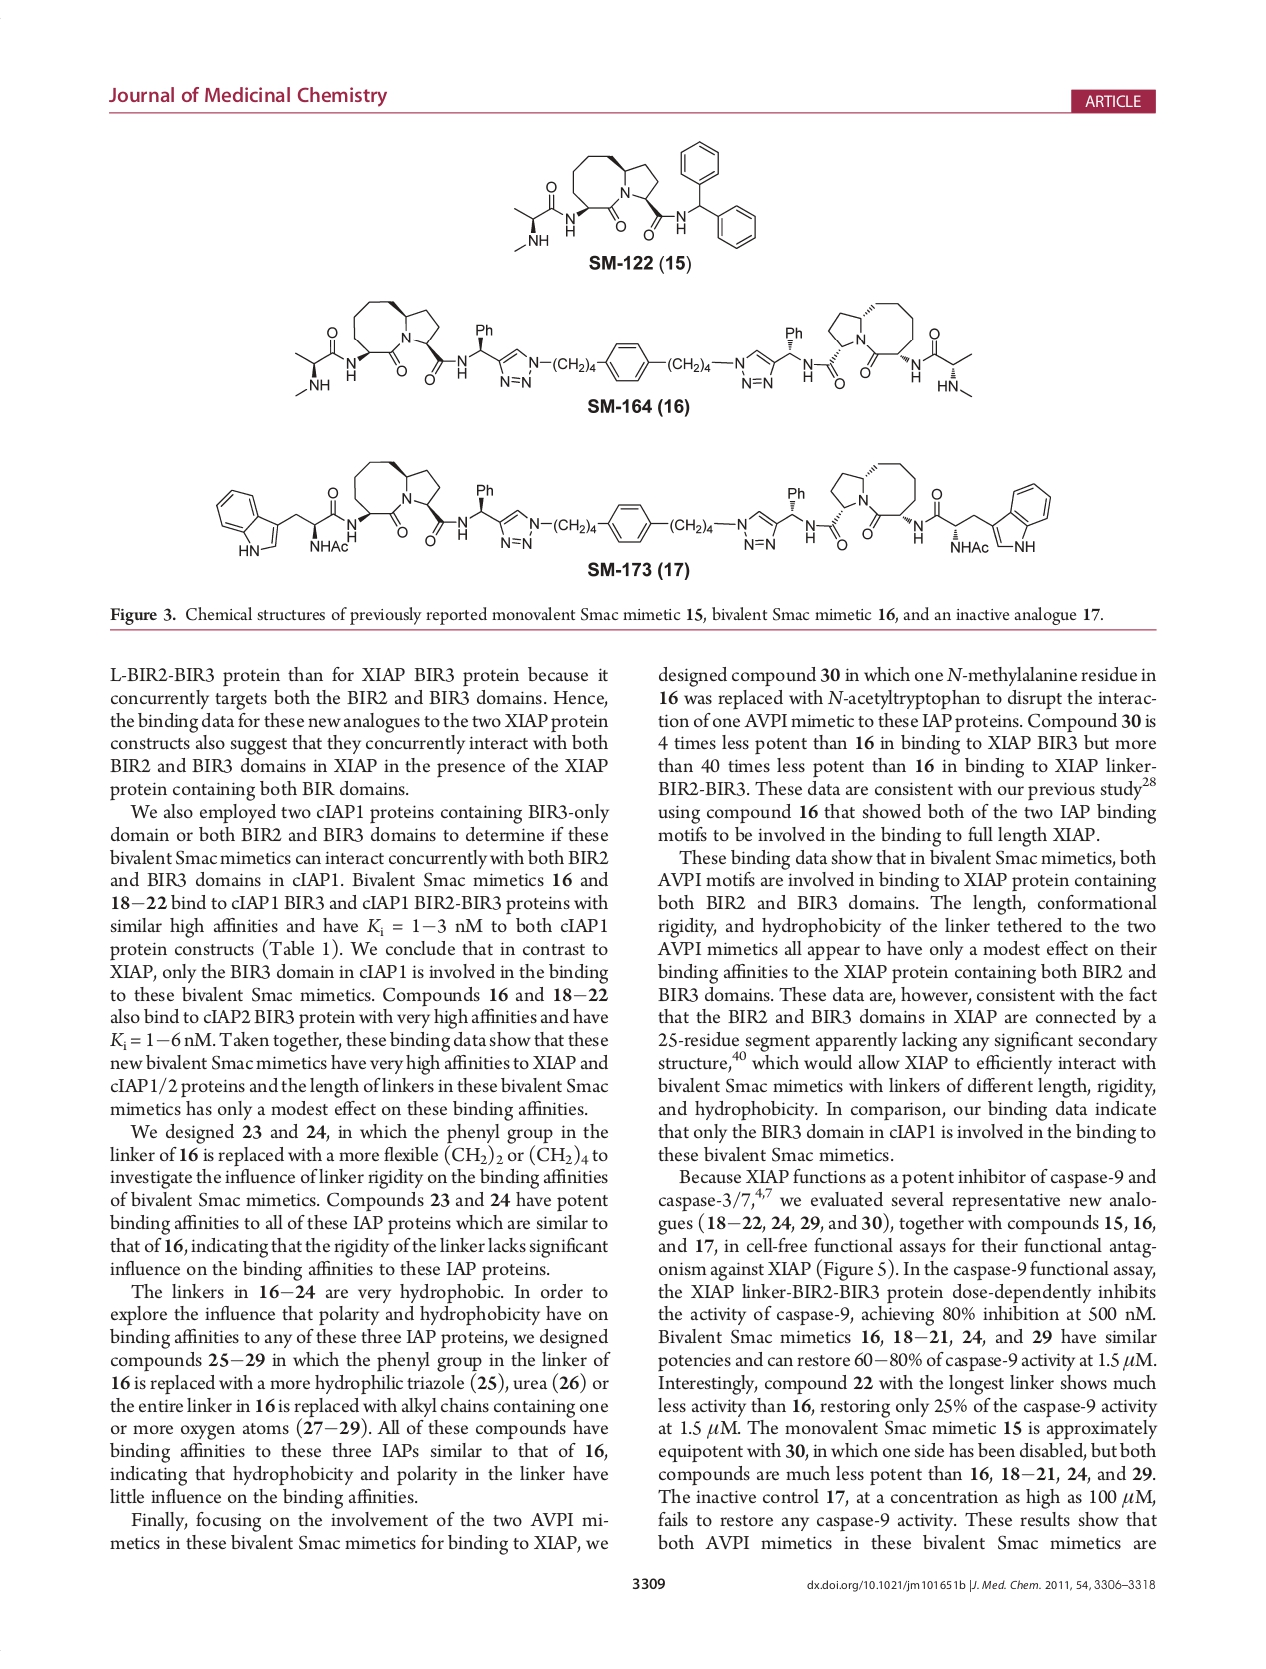exist_molecular: (214, 459, 1055, 559), (289, 297, 980, 403), (505, 136, 761, 254)
